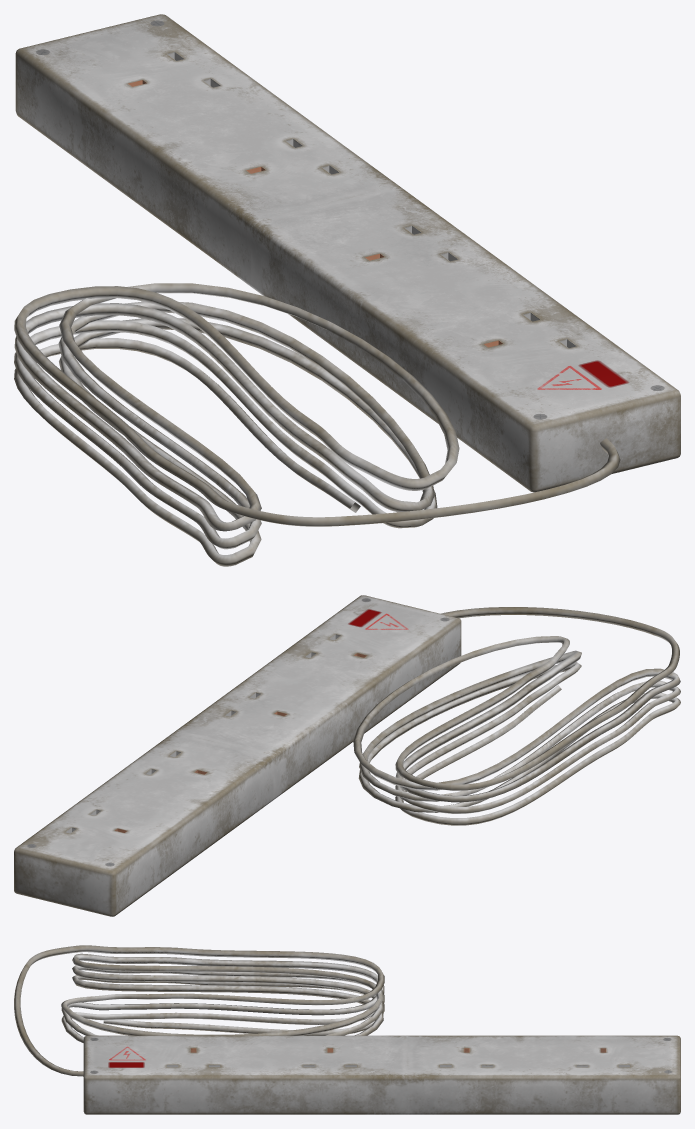
3 views of the same model, one above another, from view 1: azimuth 30°, elevation 25°; view 2: azimuth 150°, elevation 25°; view 3: azimuth 270°, elevation 25° (orthographic). The views are drawn at different scales.
Parts seen in each view (by area): view 1: SM_plug_extension.001_1, SM_plug_extension_cable.001_0; view 2: SM_plug_extension.001_1, SM_plug_extension_cable.001_0; view 3: SM_plug_extension.001_1, SM_plug_extension_cable.001_0.
Part boxes in pixels (x1=…): SM_plug_extension.001_1: x1=15, y1=14, x2=680, y2=492; SM_plug_extension_cable.001_0: x1=14, y1=283, x2=620, y2=566; SM_plug_extension.001_1: x1=14, y1=595, x2=461, y2=916; SM_plug_extension_cable.001_0: x1=353, y1=607, x2=680, y2=825; SM_plug_extension.001_1: x1=83, y1=1035, x2=680, y2=1114; SM_plug_extension_cable.001_0: x1=14, y1=945, x2=384, y2=1076.
Size of the model in its own units: 0.3057 by 0.0482 by 0.6513.
Materials: 1 (1 with a texture image).
